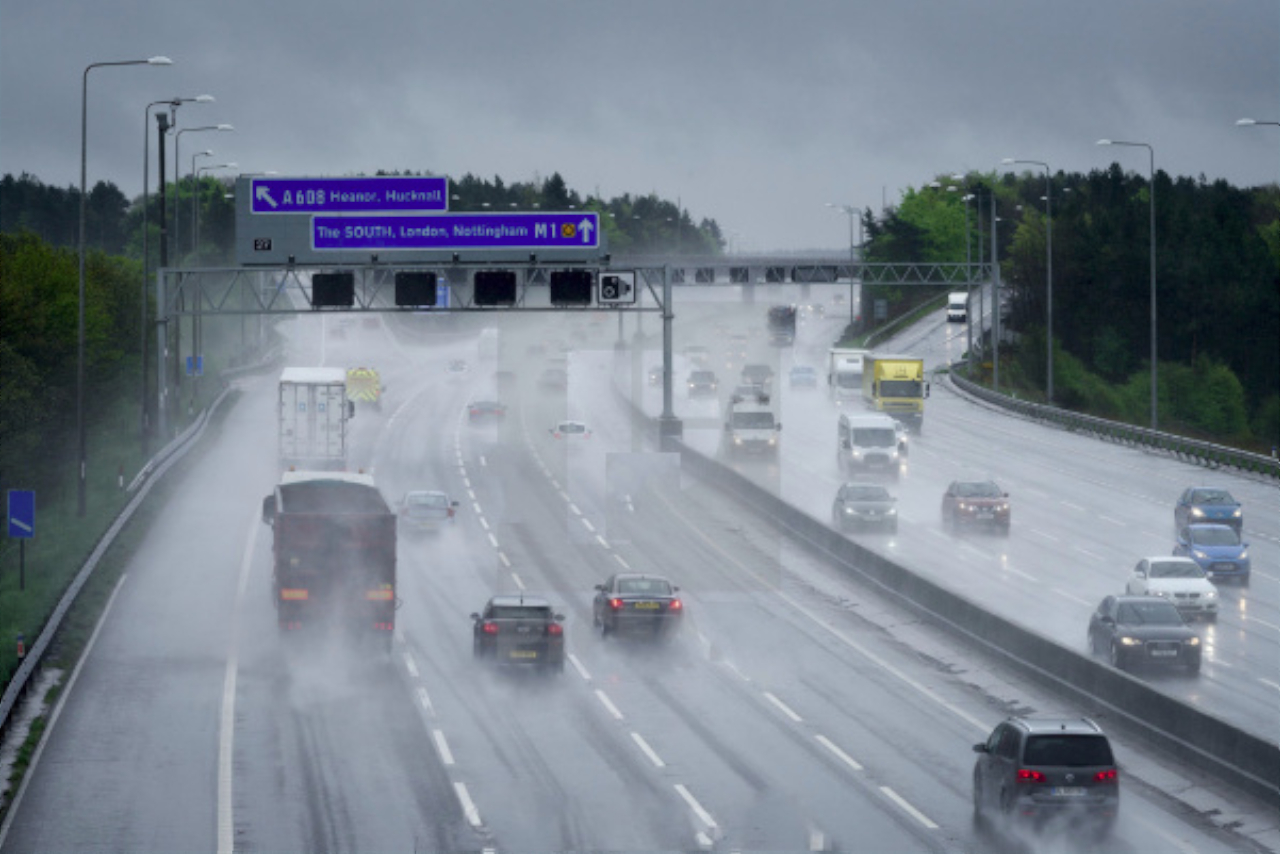car: (968, 713, 1124, 844), (1088, 592, 1202, 677), (466, 586, 566, 660), (1127, 554, 1219, 625), (592, 573, 683, 639), (1174, 522, 1248, 578), (944, 474, 1013, 529), (833, 408, 895, 468), (831, 479, 900, 530), (398, 482, 458, 537), (1174, 485, 1243, 526), (725, 406, 781, 456), (549, 417, 591, 450), (464, 397, 510, 425), (683, 368, 715, 398), (740, 366, 772, 392)
truck: (269, 469, 394, 649), (275, 368, 349, 468), (869, 358, 926, 429), (345, 366, 387, 422), (826, 351, 865, 411), (767, 308, 797, 348), (947, 295, 970, 323)
